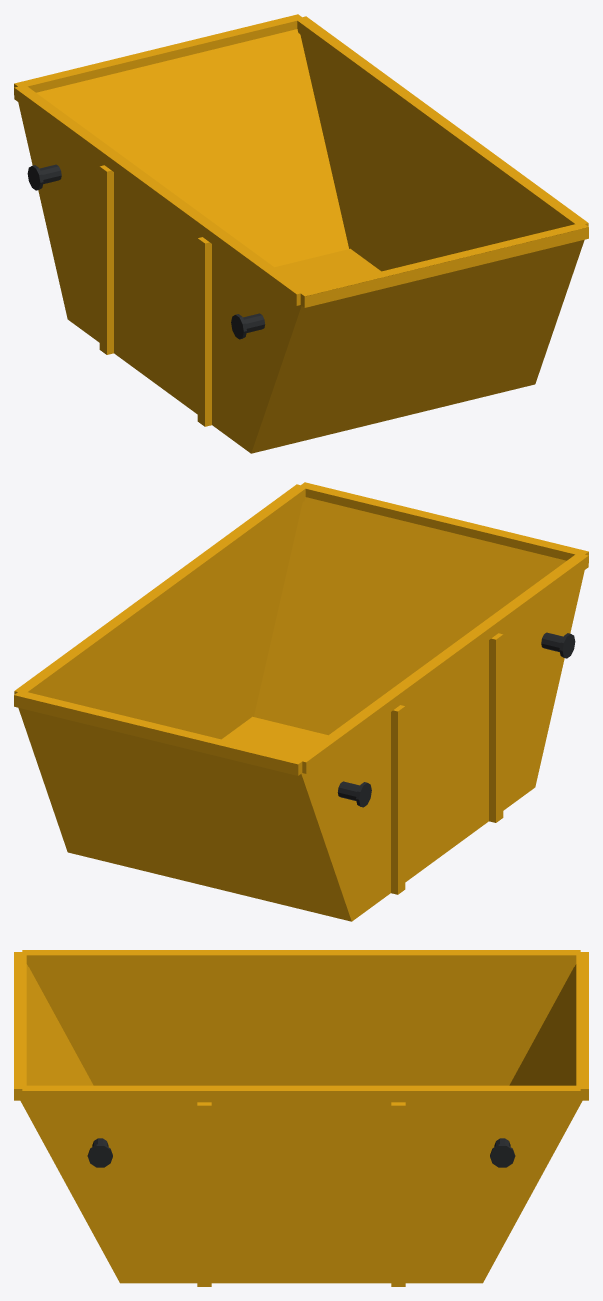
Rendered from plant.skip.builders.glb.
3 renders of one model, top to bottom at view 1: azimuth 30°, elevation 25°; view 2: azimuth 150°, elevation 25°; view 3: azimuth 270°, elevation 25°, orthographic.
Parts seen in each view (by area): view 1: main__plant_yellow, main__steel_dark; view 2: main__plant_yellow, main__steel_dark; view 3: main__plant_yellow, main__steel_dark.
Part boxes in pixels (x1=…): main__plant_yellow: x1=14, y1=14, x2=588, y2=453; main__steel_dark: x1=27, y1=164, x2=265, y2=339; main__plant_yellow: x1=14, y1=482, x2=588, y2=921; main__steel_dark: x1=337, y1=632, x2=575, y2=807; main__plant_yellow: x1=14, y1=950, x2=588, y2=1286; main__steel_dark: x1=87, y1=1138, x2=515, y2=1167.
Size of the model in its own units: 2.1 by 1.23 by 3.19.
